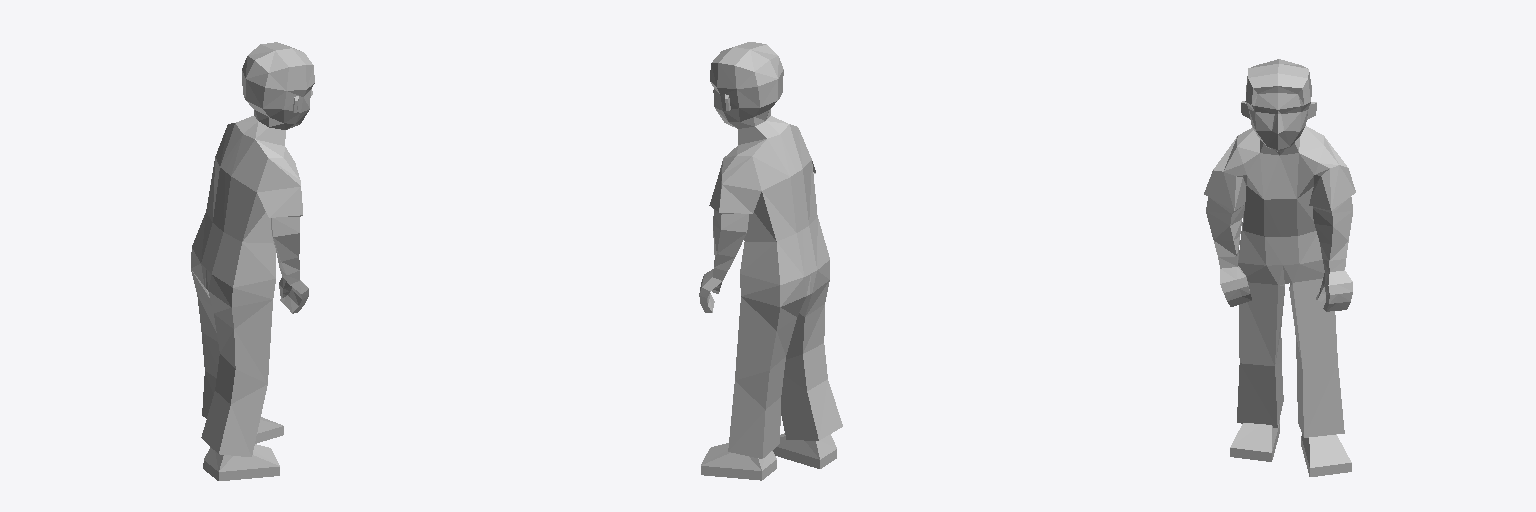
Rendered from zombie_male_idle_1.obj.
3 renders of one model, left to right at view 1: azimuth 30°, elevation 25°; view 2: azimuth 150°, elevation 25°; view 3: azimuth 270°, elevation 25°, orthographic.
Bounding box in the file's own units: 0.5165 × 1.77 × 0.6056.